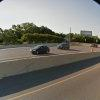Car: (28, 40, 54, 58)
